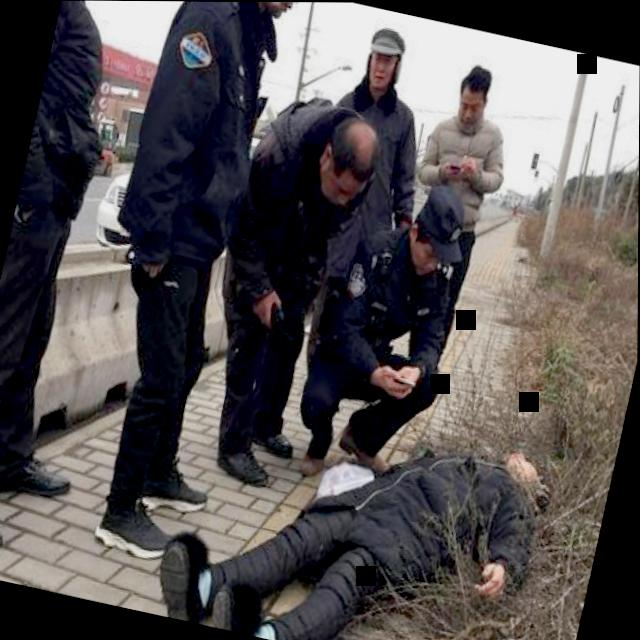Fall-Detected: (144, 365, 552, 640)
